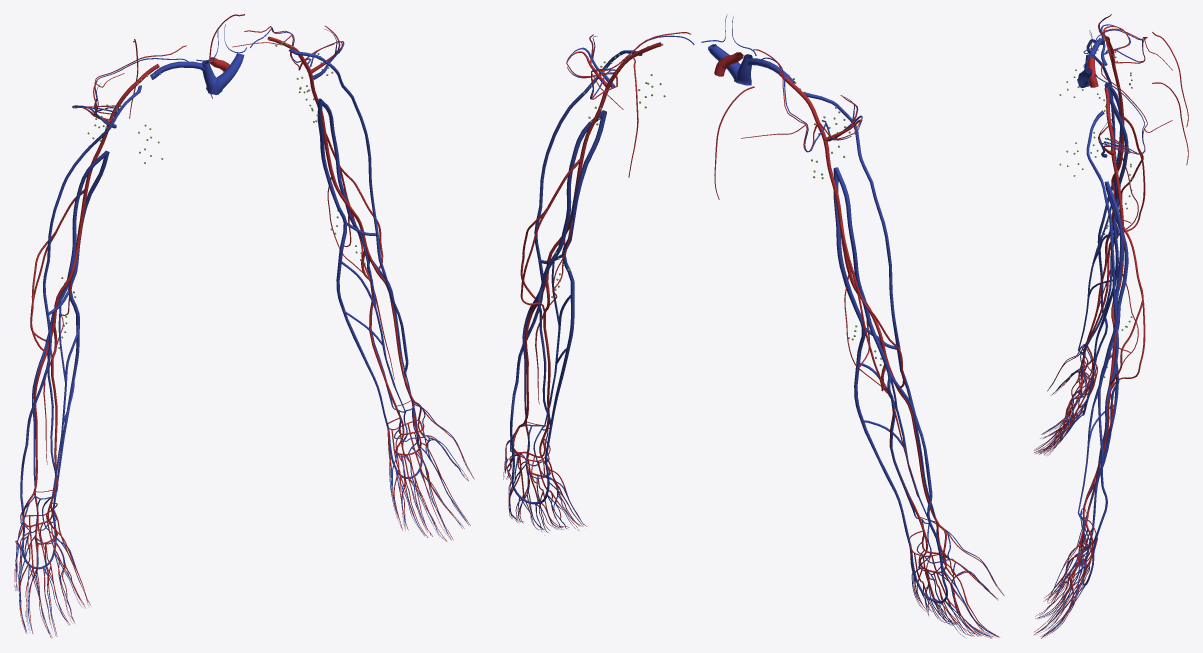
The model's file is vessels-upper-limb.glb.
3 renders of one model, left to right at view 1: azimuth 30°, elevation 25°; view 2: azimuth 150°, elevation 25°; view 3: azimuth 270°, elevation 25°, orthographic. The views are drawn at different scales.
Parts seen in each view (by area): view 1: vessel-cephalic-vein-r, vessel-cephalic-vein-l, vessel-basilic-vein-l, vessel-basilic-vein-r, vessel-palmar-digital-veins-l, vessel-proper-palmar-digital-arteries-l, vessel-proper-palmar-digital-arteries-r, vessel-palmar-digital-veins-r, vessel-brachial-artery-r, vessel-brachial-veins-r, vessel-brachial-artery-l, vessel-dorsal-digital-veins-of-hand-r; view 2: vessel-cephalic-vein-r, vessel-basilic-vein-r, vessel-basilic-vein-l, vessel-cephalic-vein-l, vessel-brachial-veins-r, vessel-brachial-artery-r, vessel-brachial-veins-l; view 3: vessel-cephalic-vein-l, vessel-basilic-vein-r, vessel-basilic-vein-l, vessel-cephalic-vein-r, vessel-brachial-veins-l, vessel-proper-palmar-digital-arteries-l, vessel-palmar-digital-veins-l, vessel-brachial-artery-l, vessel-proper-palmar-digital-arteries-r, vessel-dorsal-digital-veins-of-hand-l, vessel-palmar-digital-veins-r, vessel-brachial-artery-r (+13 smaller).
Part boxes in pixels (box(x1,y1,x2,y2)): vessel-cephalic-vein-r: box(20, 85, 141, 527); vessel-cephalic-vein-l: box(288, 48, 417, 430); vessel-basilic-vein-l: box(317, 99, 388, 428); vessel-basilic-vein-r: box(53, 151, 109, 509); vessel-palmar-digital-veins-l: box(391, 435, 468, 541); vessel-proper-palmar-digital-arteries-l: box(394, 406, 474, 541); vessel-proper-palmar-digital-arteries-r: box(15, 501, 91, 638); vessel-palmar-digital-veins-r: box(18, 531, 87, 637); vessel-brachial-artery-r: box(53, 106, 118, 320); vessel-brachial-veins-r: box(50, 150, 108, 328); vessel-brachial-artery-l: box(303, 60, 366, 244); vessel-dorsal-digital-veins-of-hand-r: box(15, 502, 87, 632); vessel-cephalic-vein-r: box(803, 92, 942, 565); vessel-basilic-vein-r: box(833, 167, 911, 545); vessel-basilic-vein-l: box(545, 111, 606, 457); vessel-cephalic-vein-l: box(510, 50, 642, 461); vessel-brachial-veins-r: box(834, 167, 889, 371); vessel-brachial-artery-r: box(817, 123, 886, 357); vessel-brachial-veins-l: box(541, 110, 605, 287); vessel-cephalic-vein-l: box(1086, 110, 1117, 551); vessel-basilic-vein-r: box(1092, 83, 1128, 374); vessel-basilic-vein-l: box(1092, 182, 1128, 527); vessel-cephalic-vein-r: box(1086, 39, 1116, 370); vessel-brachial-veins-l: box(1105, 181, 1123, 366); vessel-proper-palmar-digital-arteries-l: box(1033, 524, 1085, 638); vessel-palmar-digital-veins-l: box(1034, 550, 1085, 637); vessel-brachial-artery-l: box(1110, 138, 1124, 354); vessel-proper-palmar-digital-arteries-r: box(1033, 345, 1084, 454); vessel-dorsal-digital-veins-of-hand-l: box(1039, 524, 1089, 635); vessel-palmar-digital-veins-r: box(1035, 368, 1085, 454); vessel-brachial-artery-r: box(1110, 53, 1124, 211).
Size of the model in its own units: 0.6639 by 0.7517 by 0.2067.
